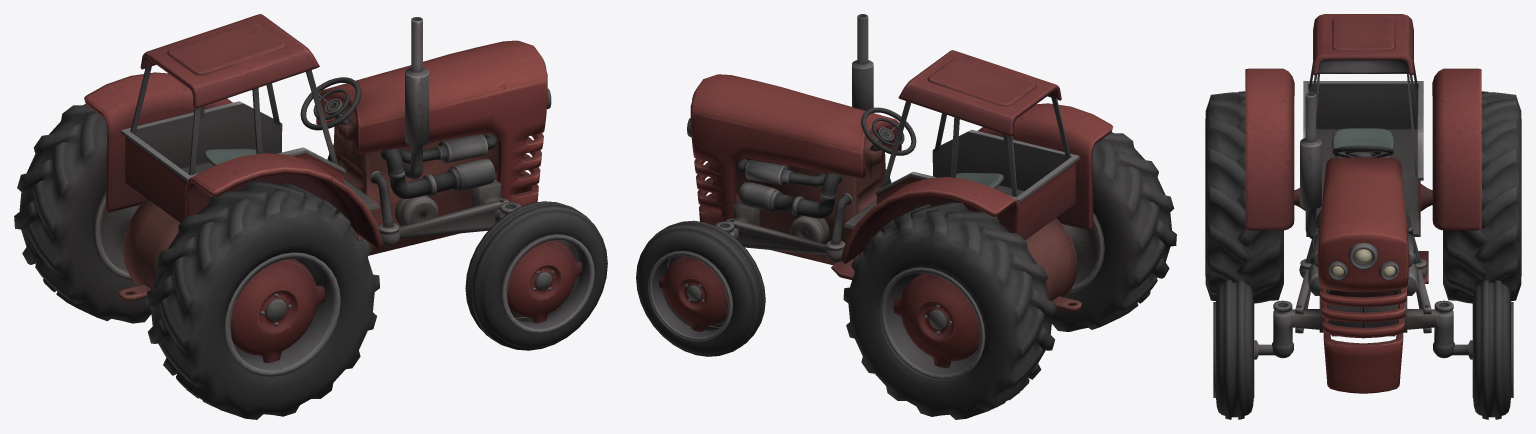
The picture shows the model from 3 angles, left to right: view 1: azimuth 30°, elevation 25°; view 2: azimuth 150°, elevation 25°; view 3: azimuth 270°, elevation 25°; orthographic projection. The views are drawn at different scales.
Visible parts, largest first — view 1: backTire, hull, frontTire, tireFlap, sitBox, tubeStuff, roof, midBit, pipe, roofbeams, wheel, seat; view 2: backTire, hull, frontTire, tireFlap, sitBox, tubeStuff, roof, midBit, roofbeams, pipe, wheel; view 3: backTire, hull, tireFlap, frontTire, sitBox, tubeStuff, roof, pipe, seat, midBit, roofbeams, wheel.
Part boxes in pixels (x1=…): backTire: x1=14, y1=104, x2=379, y2=419; hull: x1=316, y1=40, x2=551, y2=206; frontTire: x1=327, y1=155, x2=607, y2=350; tireFlap: x1=84, y1=72, x2=383, y2=248; sitBox: x1=120, y1=101, x2=379, y2=222; tubeStuff: x1=328, y1=133, x2=520, y2=247; roof: x1=140, y1=14, x2=319, y2=108; midBit: x1=118, y1=104, x2=498, y2=301; pipe: x1=403, y1=17, x2=428, y2=179; roofbeams: x1=130, y1=64, x2=338, y2=175; wheel: x1=300, y1=77, x2=361, y2=130; seat: x1=204, y1=148, x2=262, y2=165; backTire: x1=843, y1=132, x2=1176, y2=419; hull: x1=687, y1=74, x2=901, y2=225; frontTire: x1=636, y1=179, x2=891, y2=356; tireFlap: x1=840, y1=103, x2=1113, y2=263; sitBox: x1=844, y1=129, x2=1079, y2=240; tubeStuff: x1=715, y1=159, x2=890, y2=262; roof: x1=898, y1=50, x2=1061, y2=135; midBit: x1=735, y1=132, x2=1081, y2=311; roofbeams: x1=881, y1=96, x2=1070, y2=196; pipe: x1=852, y1=14, x2=873, y2=110; wheel: x1=861, y1=107, x2=916, y2=155; backTire: x1=1205, y1=91, x2=1521, y2=303; hull: x1=1317, y1=157, x2=1409, y2=393; tireFlap: x1=1245, y1=68, x2=1481, y2=230; frontTire: x1=1213, y1=280, x2=1513, y2=419; sitBox: x1=1303, y1=81, x2=1423, y2=236; tubeStuff: x1=1272, y1=210, x2=1454, y2=358; roof: x1=1313, y1=14, x2=1413, y2=74; pipe: x1=1300, y1=92, x2=1321, y2=239; seat: x1=1332, y1=128, x2=1394, y2=157; midBit: x1=1294, y1=184, x2=1432, y2=336; roofbeams: x1=1309, y1=63, x2=1417, y2=177; wheel: x1=1332, y1=145, x2=1393, y2=157.
Size of the model in its own units: 535 by 363 by 364.
Materials: 9 (9 with a texture image).
